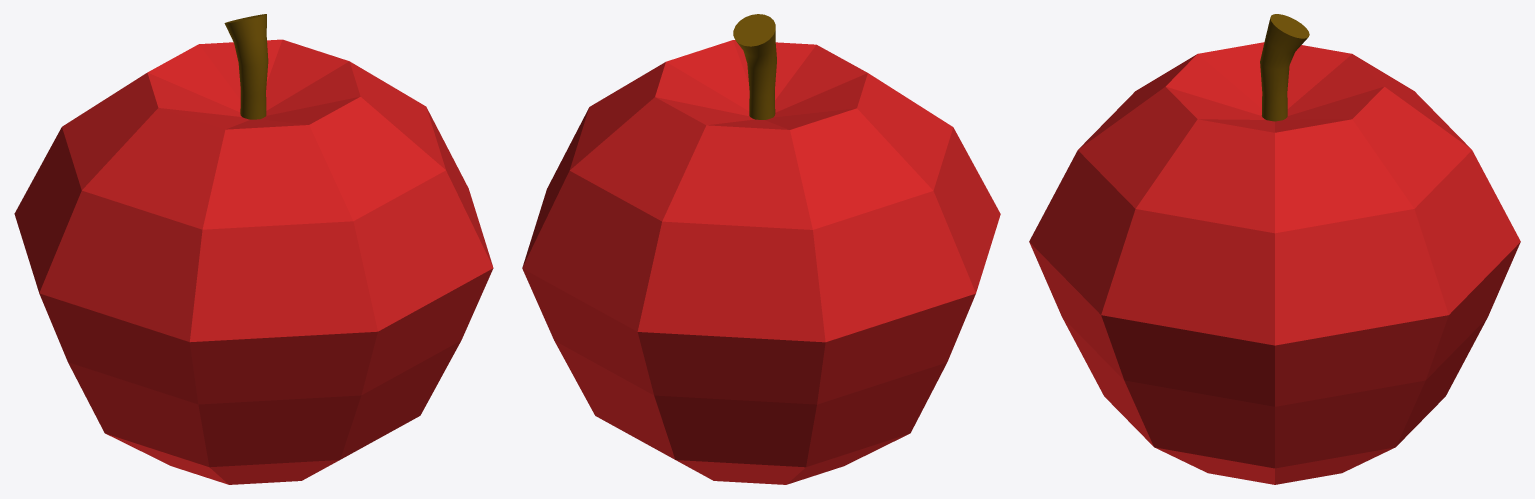
The model's file is RedApple.fbx.
3 renders of one model, left to right at view 1: azimuth 30°, elevation 25°; view 2: azimuth 150°, elevation 25°; view 3: azimuth 270°, elevation 25°, orthographic.
Parts seen in each view (by area): view 1: pSphere1, pCylinder20; view 2: pSphere1, pCylinder20; view 3: pSphere1, pCylinder20.
Part boxes in pixels (x1,y1,x2,y2): pSphere1: [14, 39, 493, 484]; pCylinder20: [224, 14, 268, 119]; pSphere1: [522, 40, 1000, 484]; pCylinder20: [733, 14, 776, 119]; pSphere1: [1029, 42, 1520, 484]; pCylinder20: [1260, 14, 1309, 121].
Size of the model in its own units: 0.1299 by 0.1243 by 0.1299.
